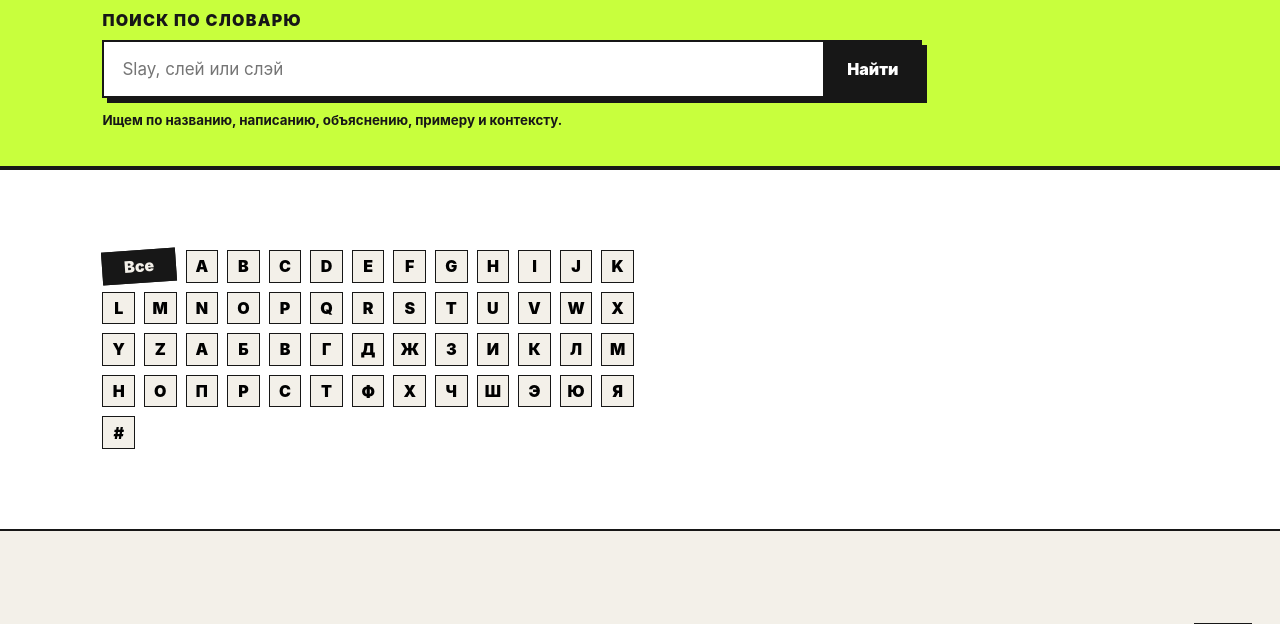
App › filters dictionary cards by letter and shows an empty state
(page scrolled)
Step 1. Click the button "В" → (285, 349), box [269,333,301,366]
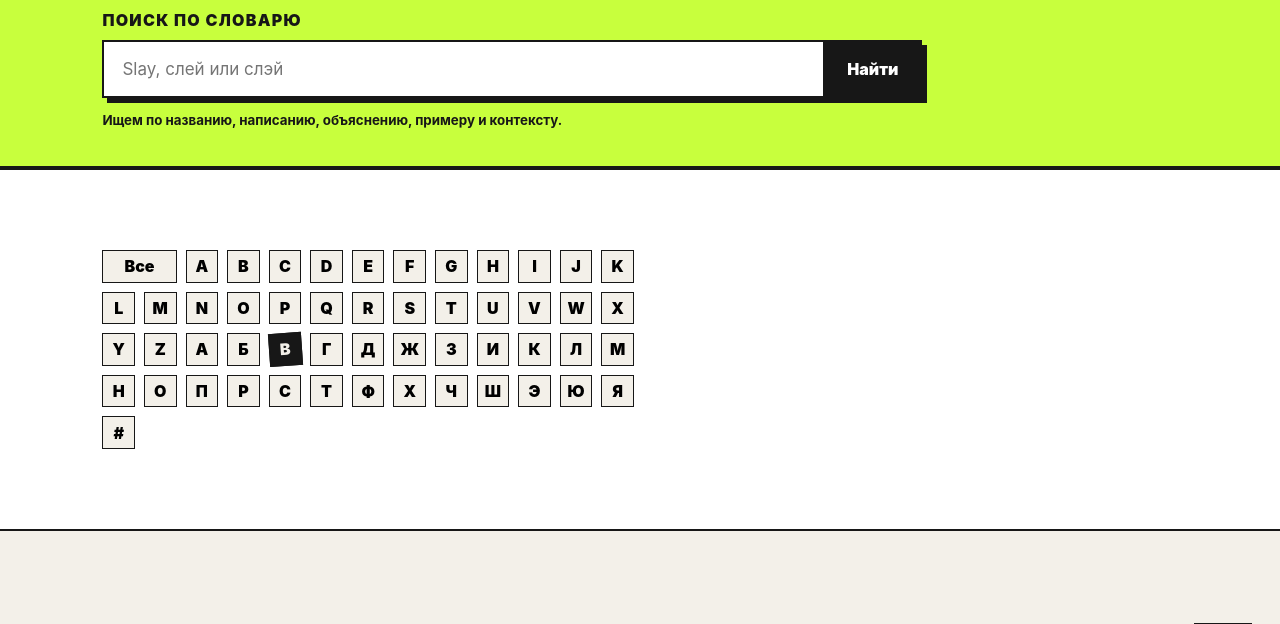
Expected: the button "В" is pressed, [268,332,302,367]
Step 2. Click the button "Ж" → (410, 349), box [393,333,426,366]
(page scrolled)
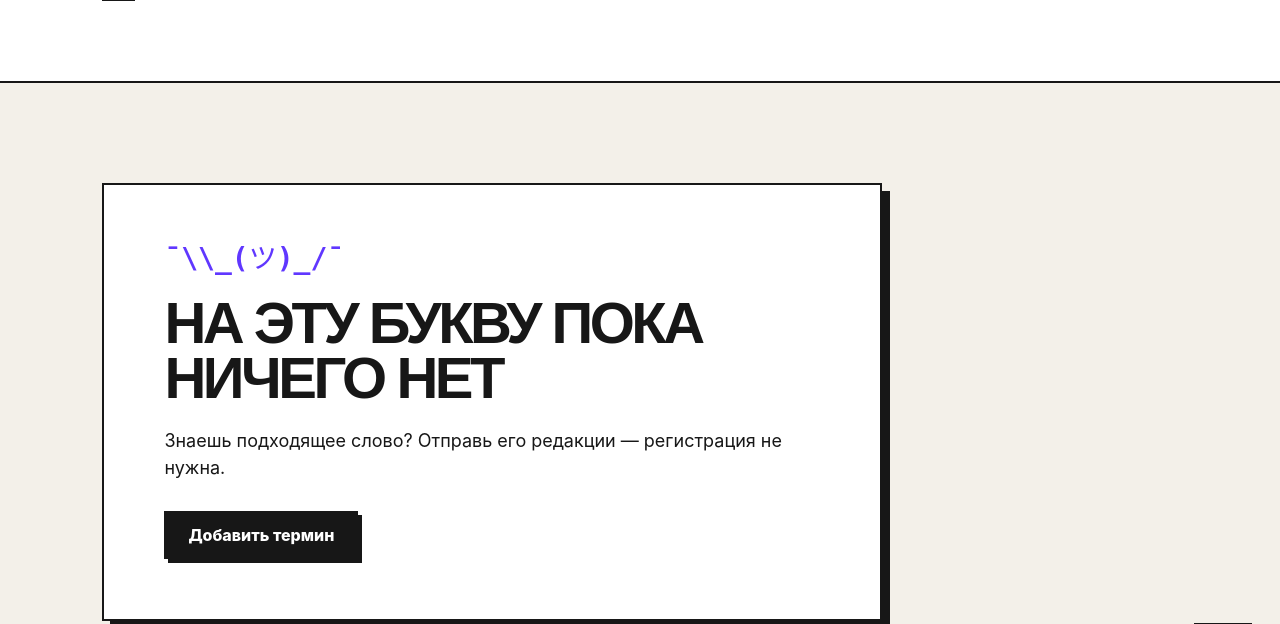
Expected: the heading "На эту букву пока ничего нет" is shown, [164,290,702,410]
